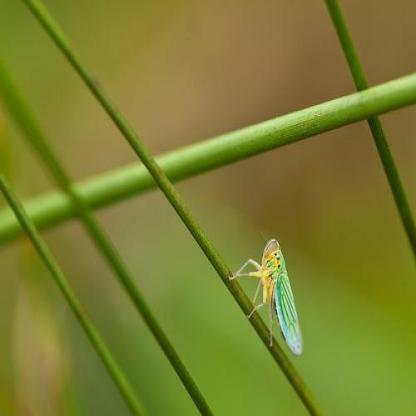Green-Leafhopper: (229, 235, 306, 362)
